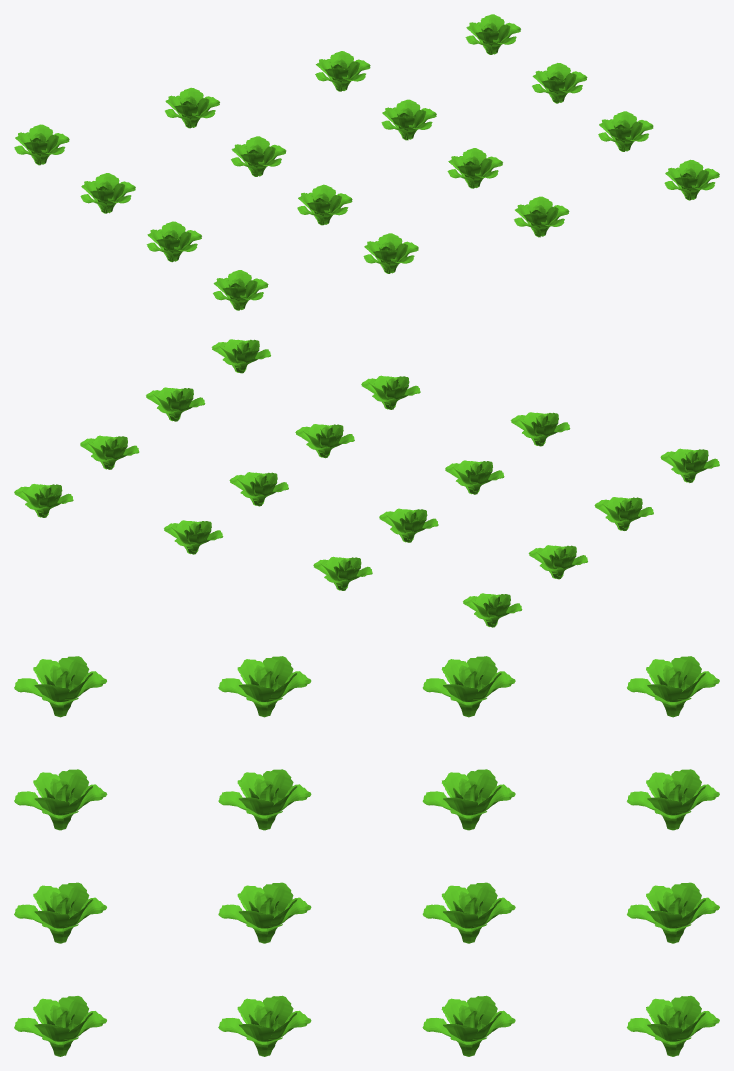
File: lettuces3.fbx
The picture shows the model from 3 angles, top to bottom: view 1: azimuth 30°, elevation 25°; view 2: azimuth 150°, elevation 25°; view 3: azimuth 270°, elevation 25°; orthographic projection. The views are drawn at different scales.
Visible parts, largest first — view 1: lettuce stage 3; view 2: lettuce stage 3; view 3: lettuce stage 3.
Part boxes in pixels (box(x1,y1,x2,y2)): lettuce stage 3: box(14, 14, 719, 310); lettuce stage 3: box(14, 339, 719, 627); lettuce stage 3: box(14, 656, 719, 1056).
Size of the model in its own units: 744 by 43.04 by 583.
